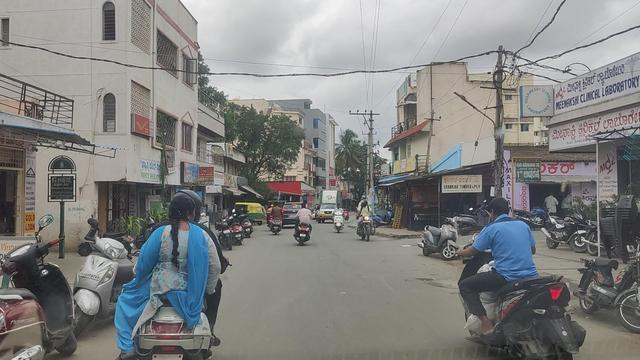LMV: (147, 194, 215, 353), (293, 203, 311, 249)
RoadDamages: (410, 268, 455, 290)
